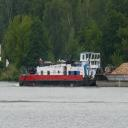tugboat: (20, 52, 102, 90)
